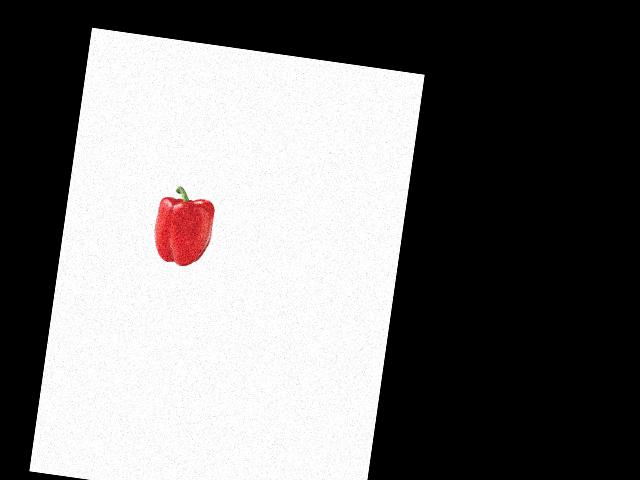bell_pepper: (146, 183, 221, 272)
